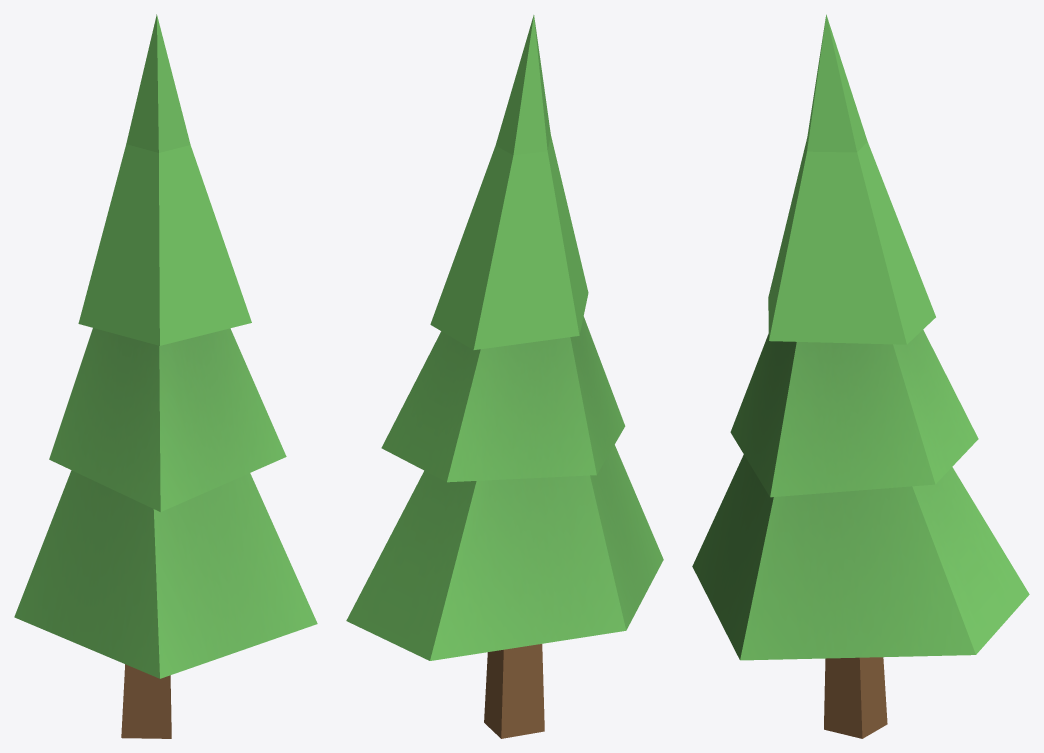
Rendered from Fir_Tree_OneSided_s_01.fbx.
3 views of the same model, side by side, from view 1: azimuth 30°, elevation 25°; view 2: azimuth 150°, elevation 25°; view 3: azimuth 270°, elevation 25° (orthographic). The views are drawn at different scales.
Visible parts, largest first — view 1: Fir_Tree_OneSided_s_01; view 2: Fir_Tree_OneSided_s_01; view 3: Fir_Tree_OneSided_s_01.
Part boxes in pixels (x1,y1,x2,y2): Fir_Tree_OneSided_s_01: (14, 14, 317, 738); Fir_Tree_OneSided_s_01: (346, 15, 663, 738); Fir_Tree_OneSided_s_01: (692, 14, 1029, 738).
Bounding box in the file's own units: 90.21 × 265 × 114.
